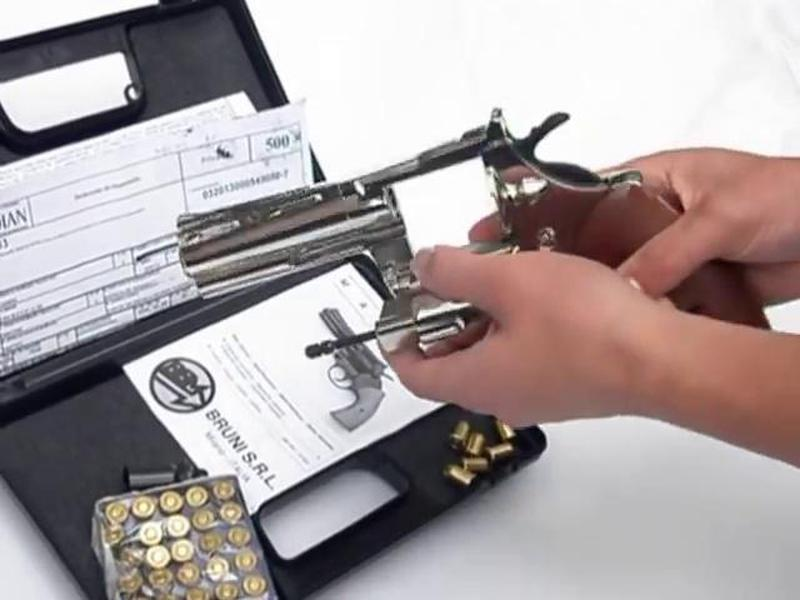Revolver: (167, 94, 727, 368)
